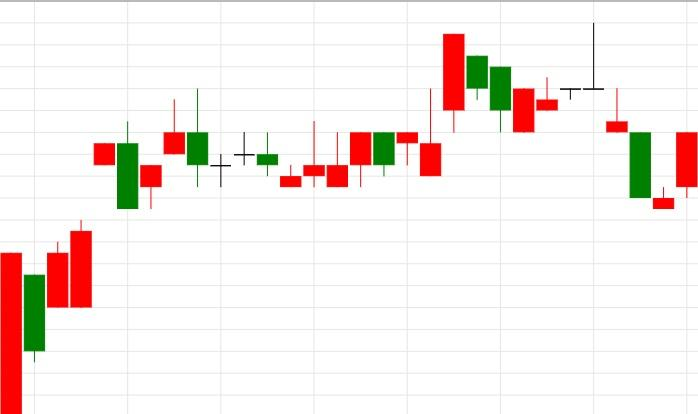bearish_engulfing_fall: (0, 121, 139, 413), (116, 88, 209, 208)
morning_star_rise: (560, 22, 698, 209)
